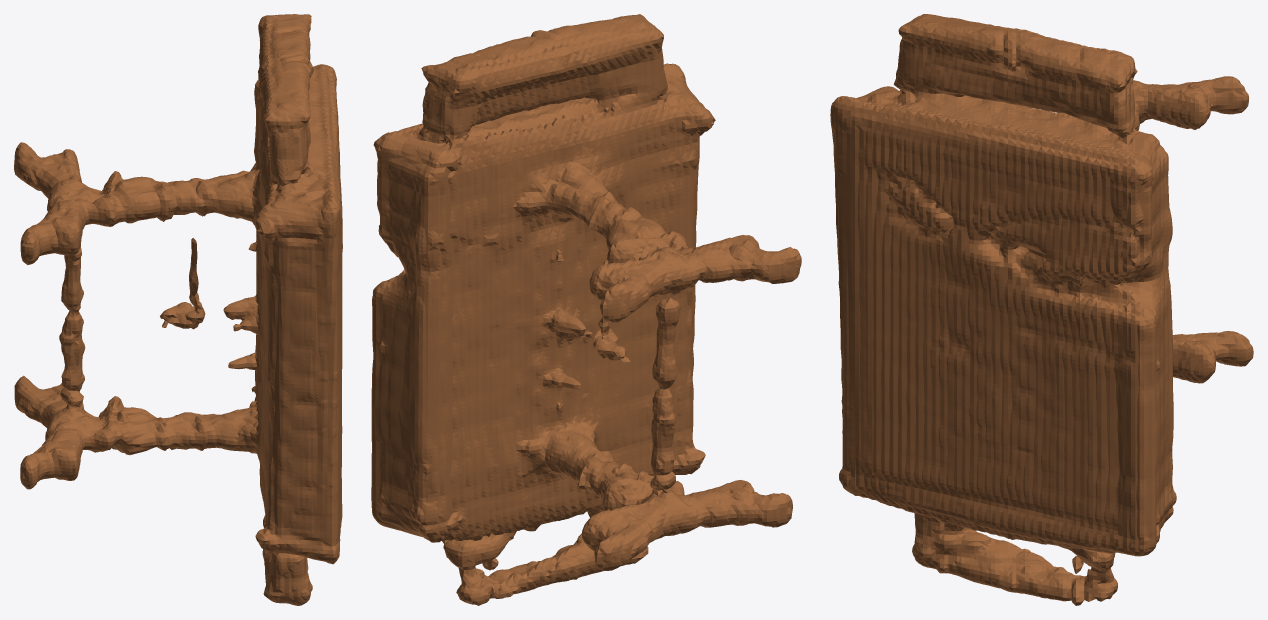
Rendered from raw.glb.
3 renders of one model, left to right at view 1: azimuth 30°, elevation 25°; view 2: azimuth 150°, elevation 25°; view 3: azimuth 270°, elevation 25°, orthographic. The views are drawn at different scales.
Parts seen in each view (by area): view 1: world; view 2: world; view 3: world.
Boxes of the visible parts, bbox=[...] form: world: bbox=[14, 14, 342, 605]; world: bbox=[371, 14, 801, 605]; world: bbox=[830, 14, 1253, 605].
Size of the model in its own units: 0.74 by 1.02 by 0.7061.
